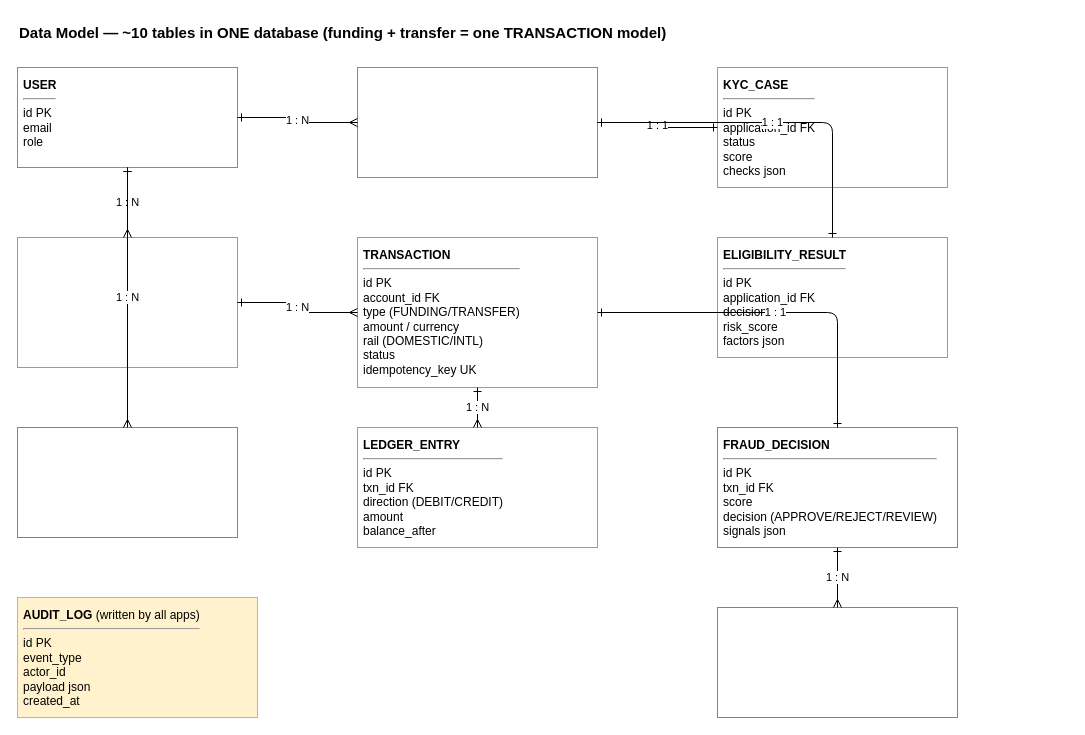
This 1085x735 diagram has some shape labels left out. The box of each missing label's shape, as (x1, y1, x2, y2) in pixels:
ACCOUNT id PK user_id FK account_number currency balance status: (16, 236, 238, 368)
FRAUD_CASE id PK decision_id FK status resolution: (716, 606, 958, 718)
NOTIFICATION id PK user_id FK message read (bool): (16, 426, 238, 538)
ONBOARDING_APPLICATION id PK user_id FK status customer_info json: (356, 66, 598, 178)
